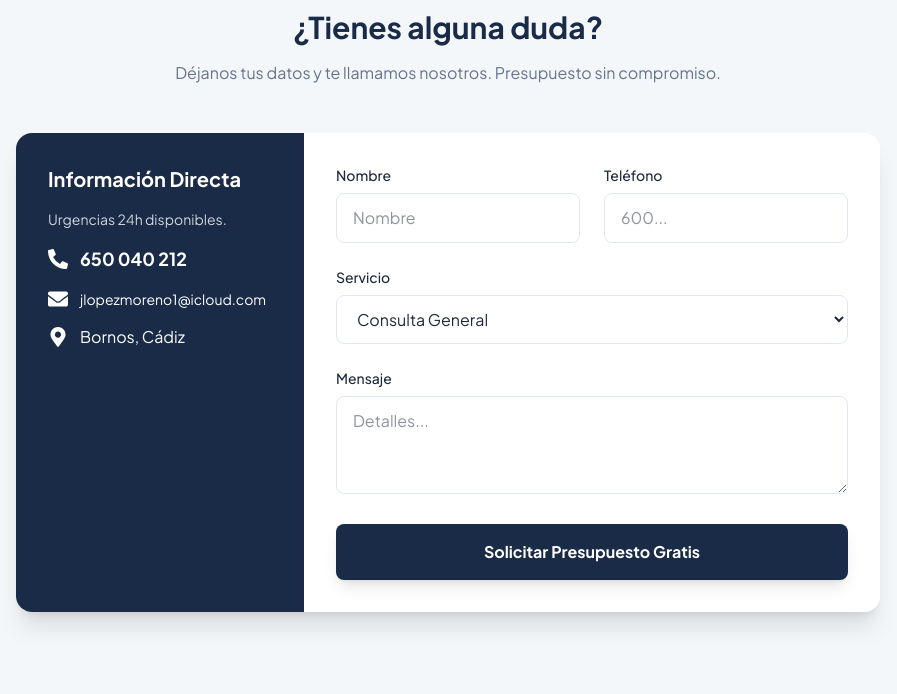
Test: Contact › shows field errors and blocks EmailJS when validation fails
In the field labelled "Nombre": (458, 218) [336,193,580,243], type "J"
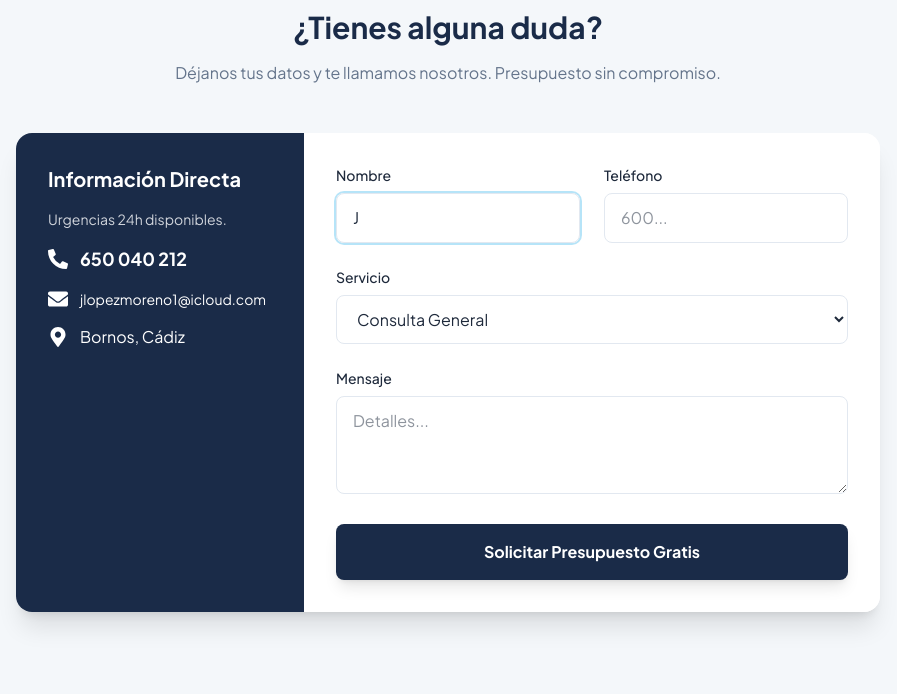
In the field labelled "Teléfono": (726, 218) [604,193,848,243], type "123"
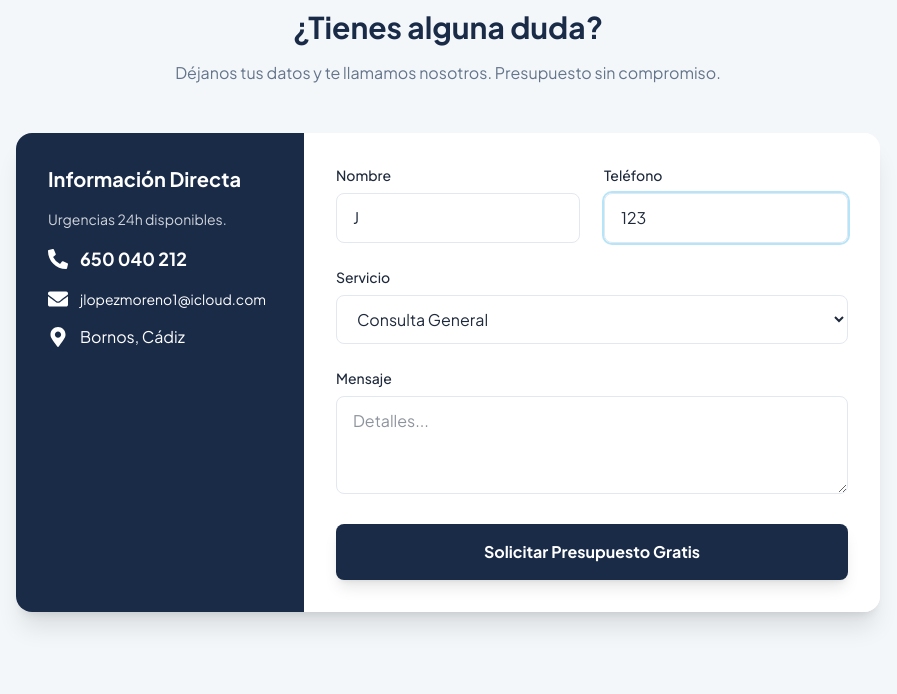
Click the button "Solicitar Presupuesto Gratis": click(592, 552) [336,524,848,580]
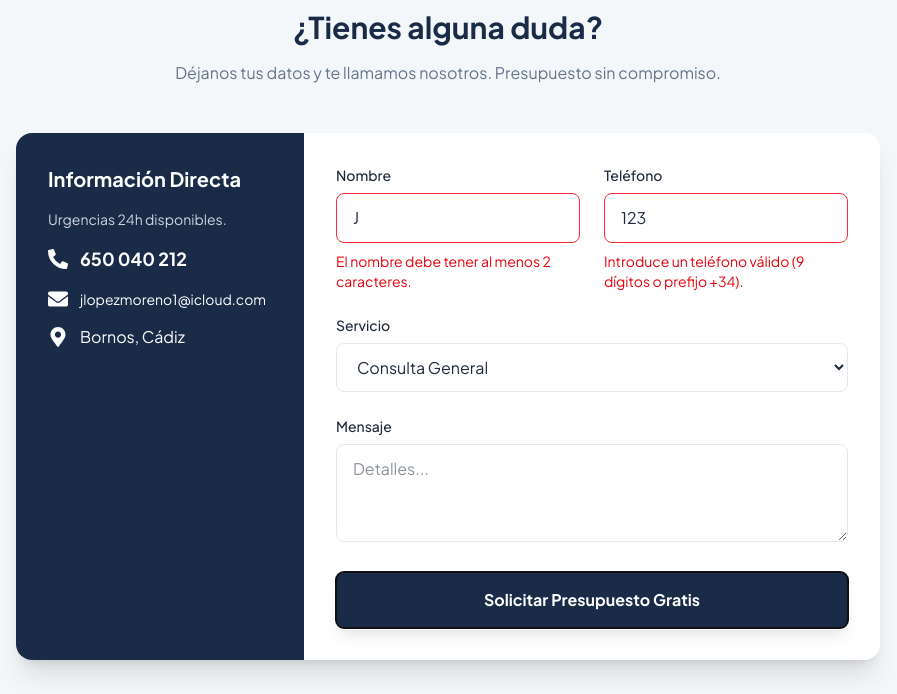
Check: the text "El nombre debe tener al menos 2 caracteres." is shown, box [336,251,580,291]
Check: the text "Introduce un teléfono válido (9 dígitos o prefijo +34)." is shown, box [604,252,804,290]
